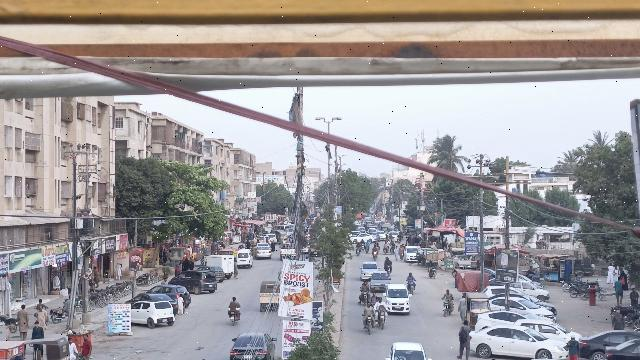Bike: (375, 309, 389, 331), (440, 298, 456, 317), (364, 314, 375, 335), (360, 289, 370, 306), (229, 311, 238, 328), (408, 280, 418, 295), (384, 264, 395, 275)
Car: (469, 325, 568, 360), (229, 332, 279, 360), (130, 300, 175, 327), (172, 269, 219, 294), (383, 281, 411, 315), (385, 341, 433, 360), (369, 270, 393, 290), (359, 261, 381, 279)
Person: (456, 319, 473, 360), (565, 333, 585, 360), (16, 304, 30, 340), (609, 308, 628, 330), (35, 304, 48, 328), (30, 321, 45, 339), (176, 291, 185, 317), (227, 294, 240, 311), (361, 301, 375, 316), (374, 295, 388, 309), (181, 291, 188, 313), (359, 279, 371, 291), (443, 289, 454, 301), (370, 290, 378, 304), (406, 272, 416, 282), (384, 257, 392, 266)
Rickshaw: (257, 280, 281, 313), (464, 291, 488, 324)
Truck: (208, 254, 235, 277)
